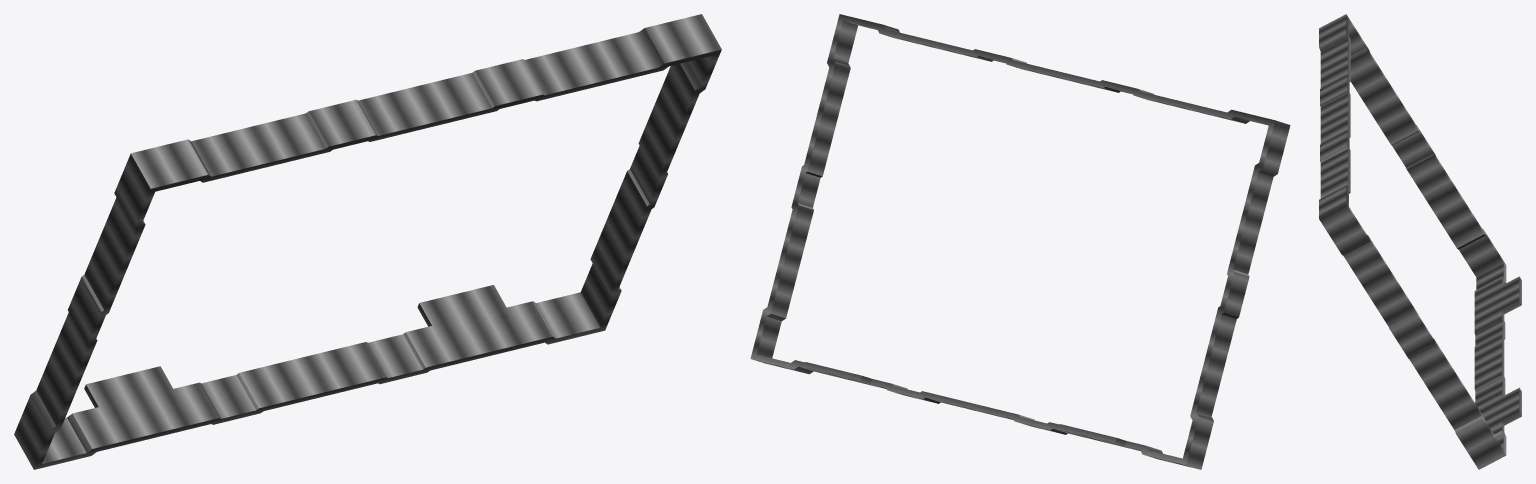
Rendered from original-100.obj.
3 views of the same model, side by side, from view 1: azimuth 30°, elevation 25°; view 2: azimuth 150°, elevation 25°; view 3: azimuth 270°, elevation 25° (orthographic). The views are drawn at different scales.
Parts seen in each view (by area): view 1: mesh112/mesh112-geometry#mesh112-geometry; view 2: mesh112/mesh112-geometry#mesh112-geometry; view 3: mesh112/mesh112-geometry#mesh112-geometry.
Part boxes in pixels (bbox=[...]): mesh112/mesh112-geometry#mesh112-geometry: bbox=[14, 14, 721, 469]; mesh112/mesh112-geometry#mesh112-geometry: bbox=[750, 14, 1290, 469]; mesh112/mesh112-geometry#mesh112-geometry: bbox=[1319, 14, 1521, 469].
Size of the model in its own units: 1.11 by 0.7193 by 0.4989.
